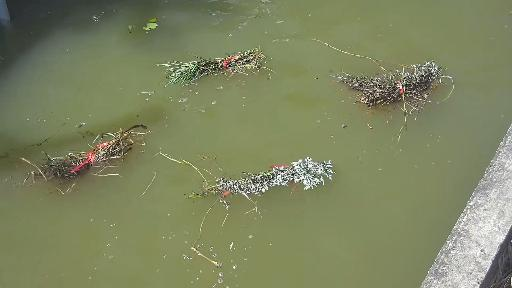leaf: (130, 19, 172, 35)
twig: (320, 38, 478, 151), (154, 149, 348, 224), (0, 116, 167, 202), (157, 32, 304, 83)
